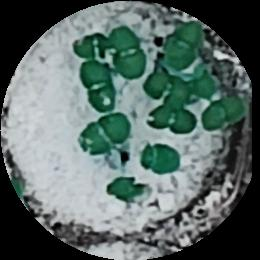Basil: (111, 27, 150, 80), (77, 114, 125, 152), (82, 63, 116, 113), (164, 25, 203, 68), (203, 94, 245, 132), (148, 102, 195, 134), (149, 75, 193, 106), (73, 33, 123, 57), (144, 145, 180, 175), (107, 177, 145, 204)
